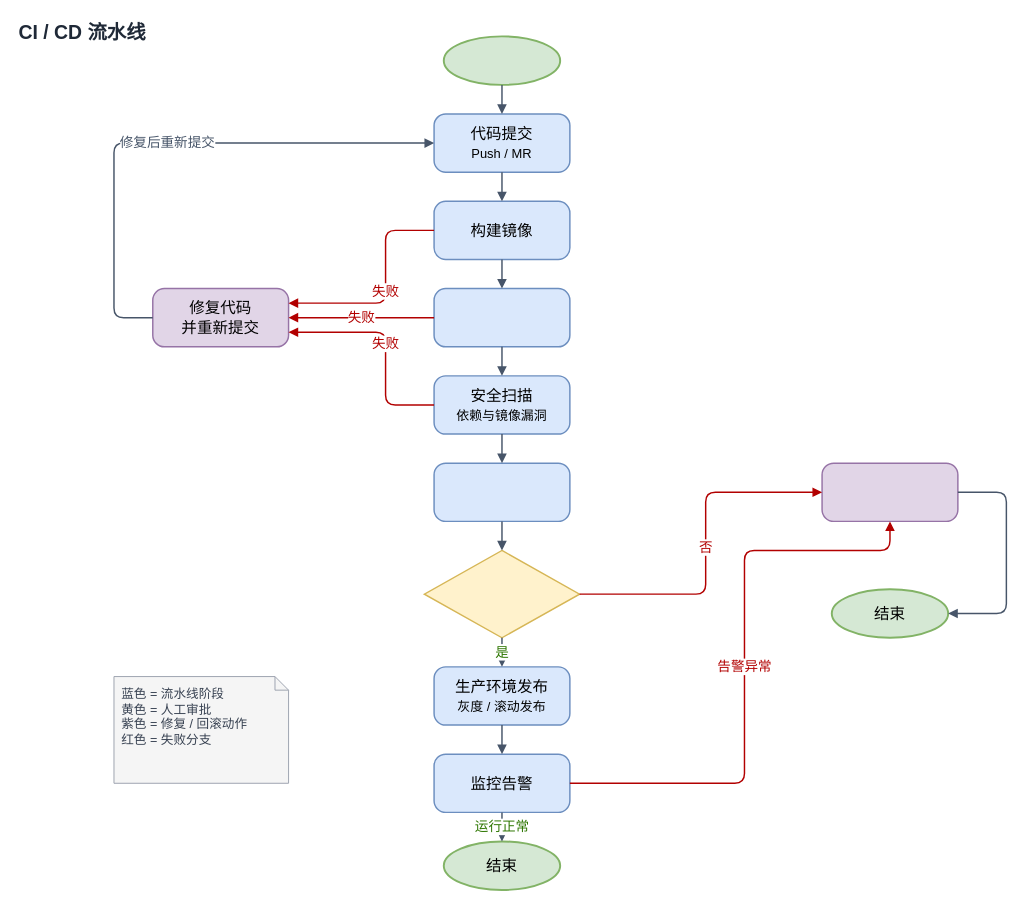
The diagram is 1031 pixels wide and 907 high, and some of its shapes have lost their labels. The box of each missing label's shape, as (x1, y1, x2, y2) in pixels:
人工审批 是否通过?: (423, 549, 580, 638)
单元测试: (433, 287, 570, 347)
回滚上一版本 并通知值班: (821, 462, 958, 522)
开始: (442, 35, 561, 85)
部署预发环境: (433, 462, 570, 522)
